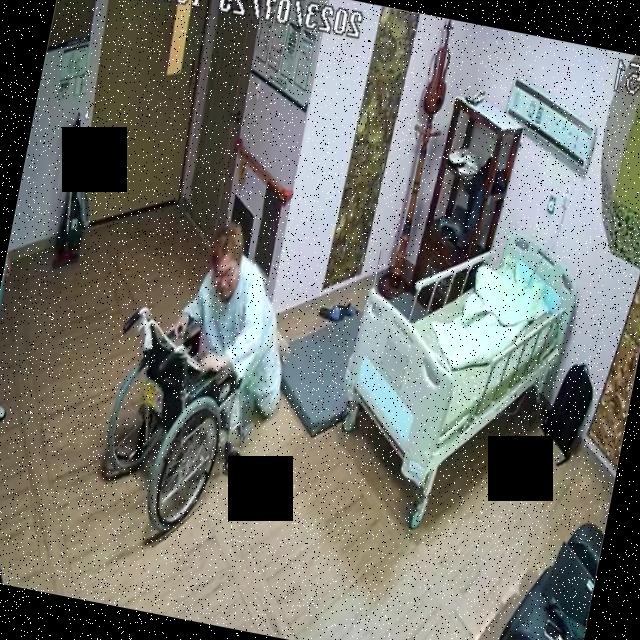fall: (154, 214, 314, 424)
patient: (156, 212, 314, 426)
